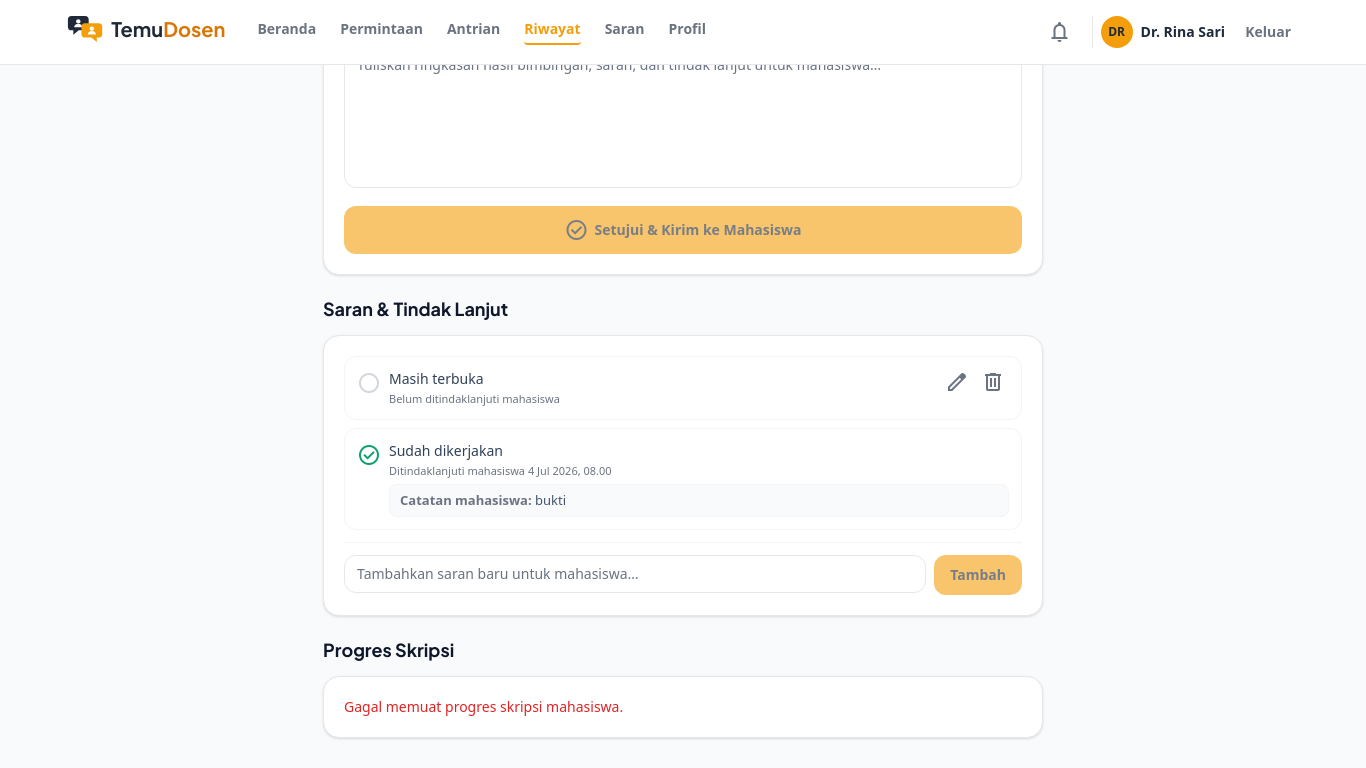
it: LecturerSessionDetail › locks completed advice items and requires confirmation before delete (U1)
(page scrolled)
Expected: the text "Masih terbuka" is shown, [389,368,484,388]
Note: deleting needs an explicit confirm — first click only reveals it
Click the button named "Hapus saran": coordinates (993, 384) [977,368,1009,400]
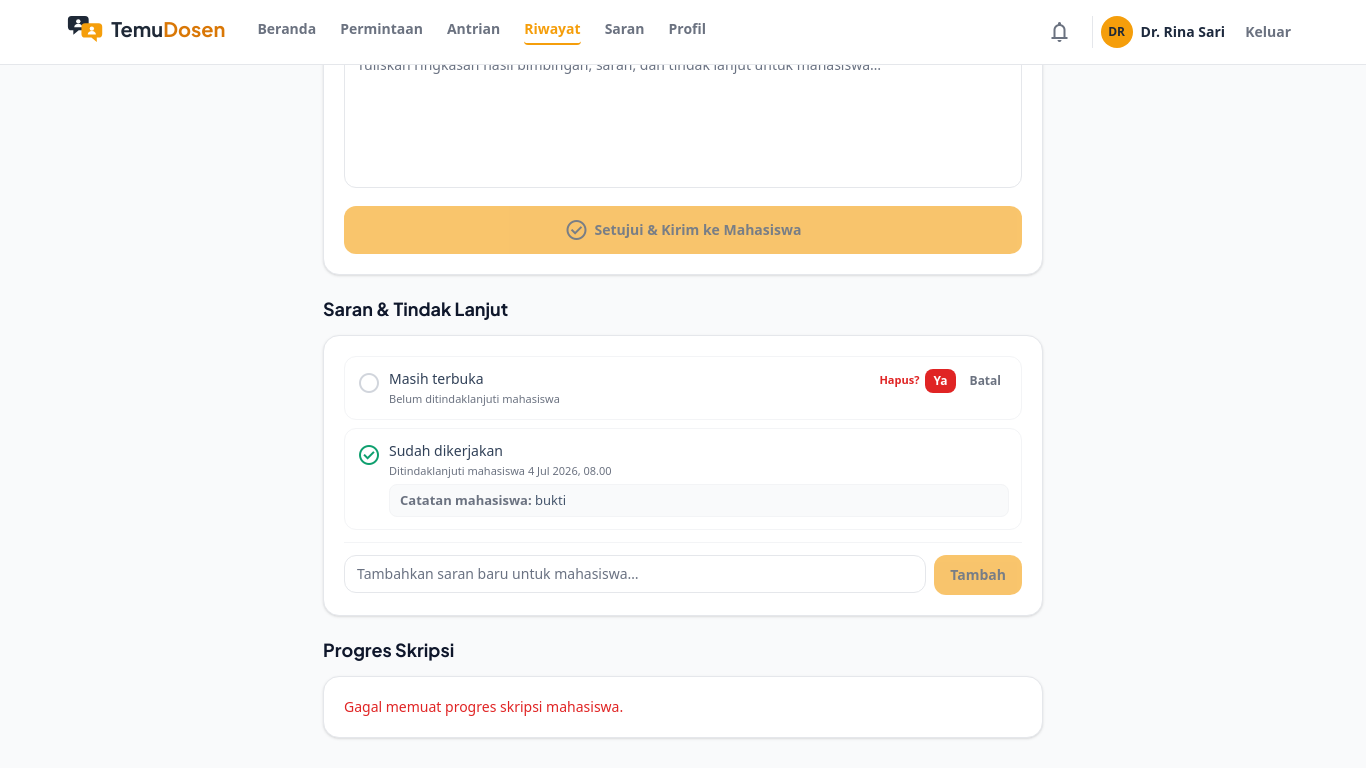
Expected: the text "Hapus?" is shown, [880,372,920,389]
Click the button "Ya": coordinates (940, 380) [925,368,956,392]
(page scrolled)
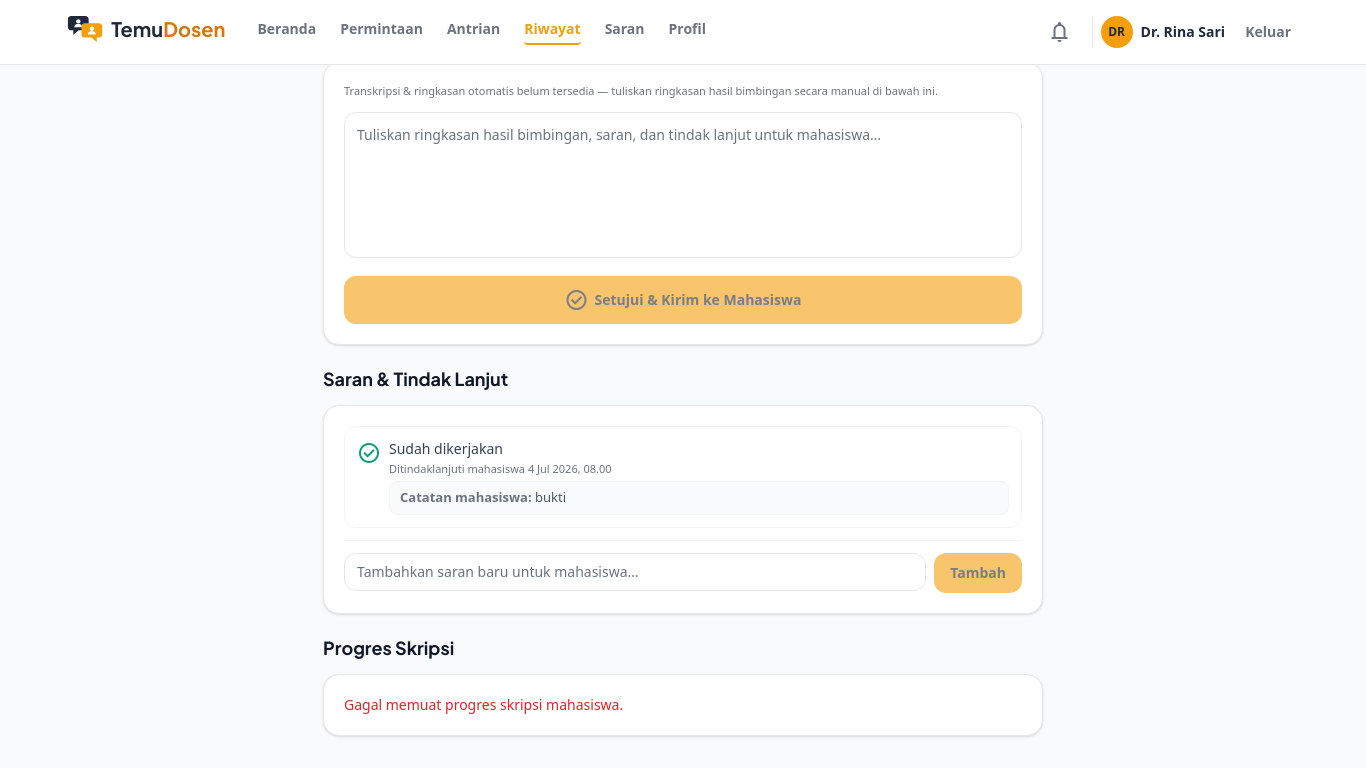
Expected: the text "Masih terbuka" is gone
